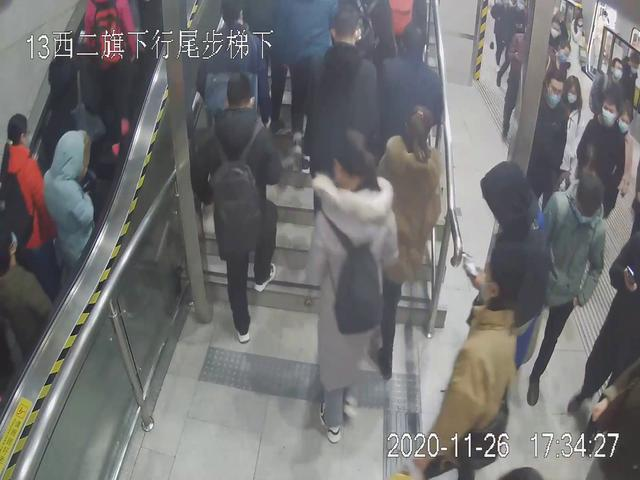person: (291, 125, 412, 442), (191, 71, 295, 337), (418, 246, 520, 477), (371, 100, 449, 379), (520, 164, 607, 407), (295, 1, 385, 189), (1, 110, 45, 280), (526, 72, 566, 189)
